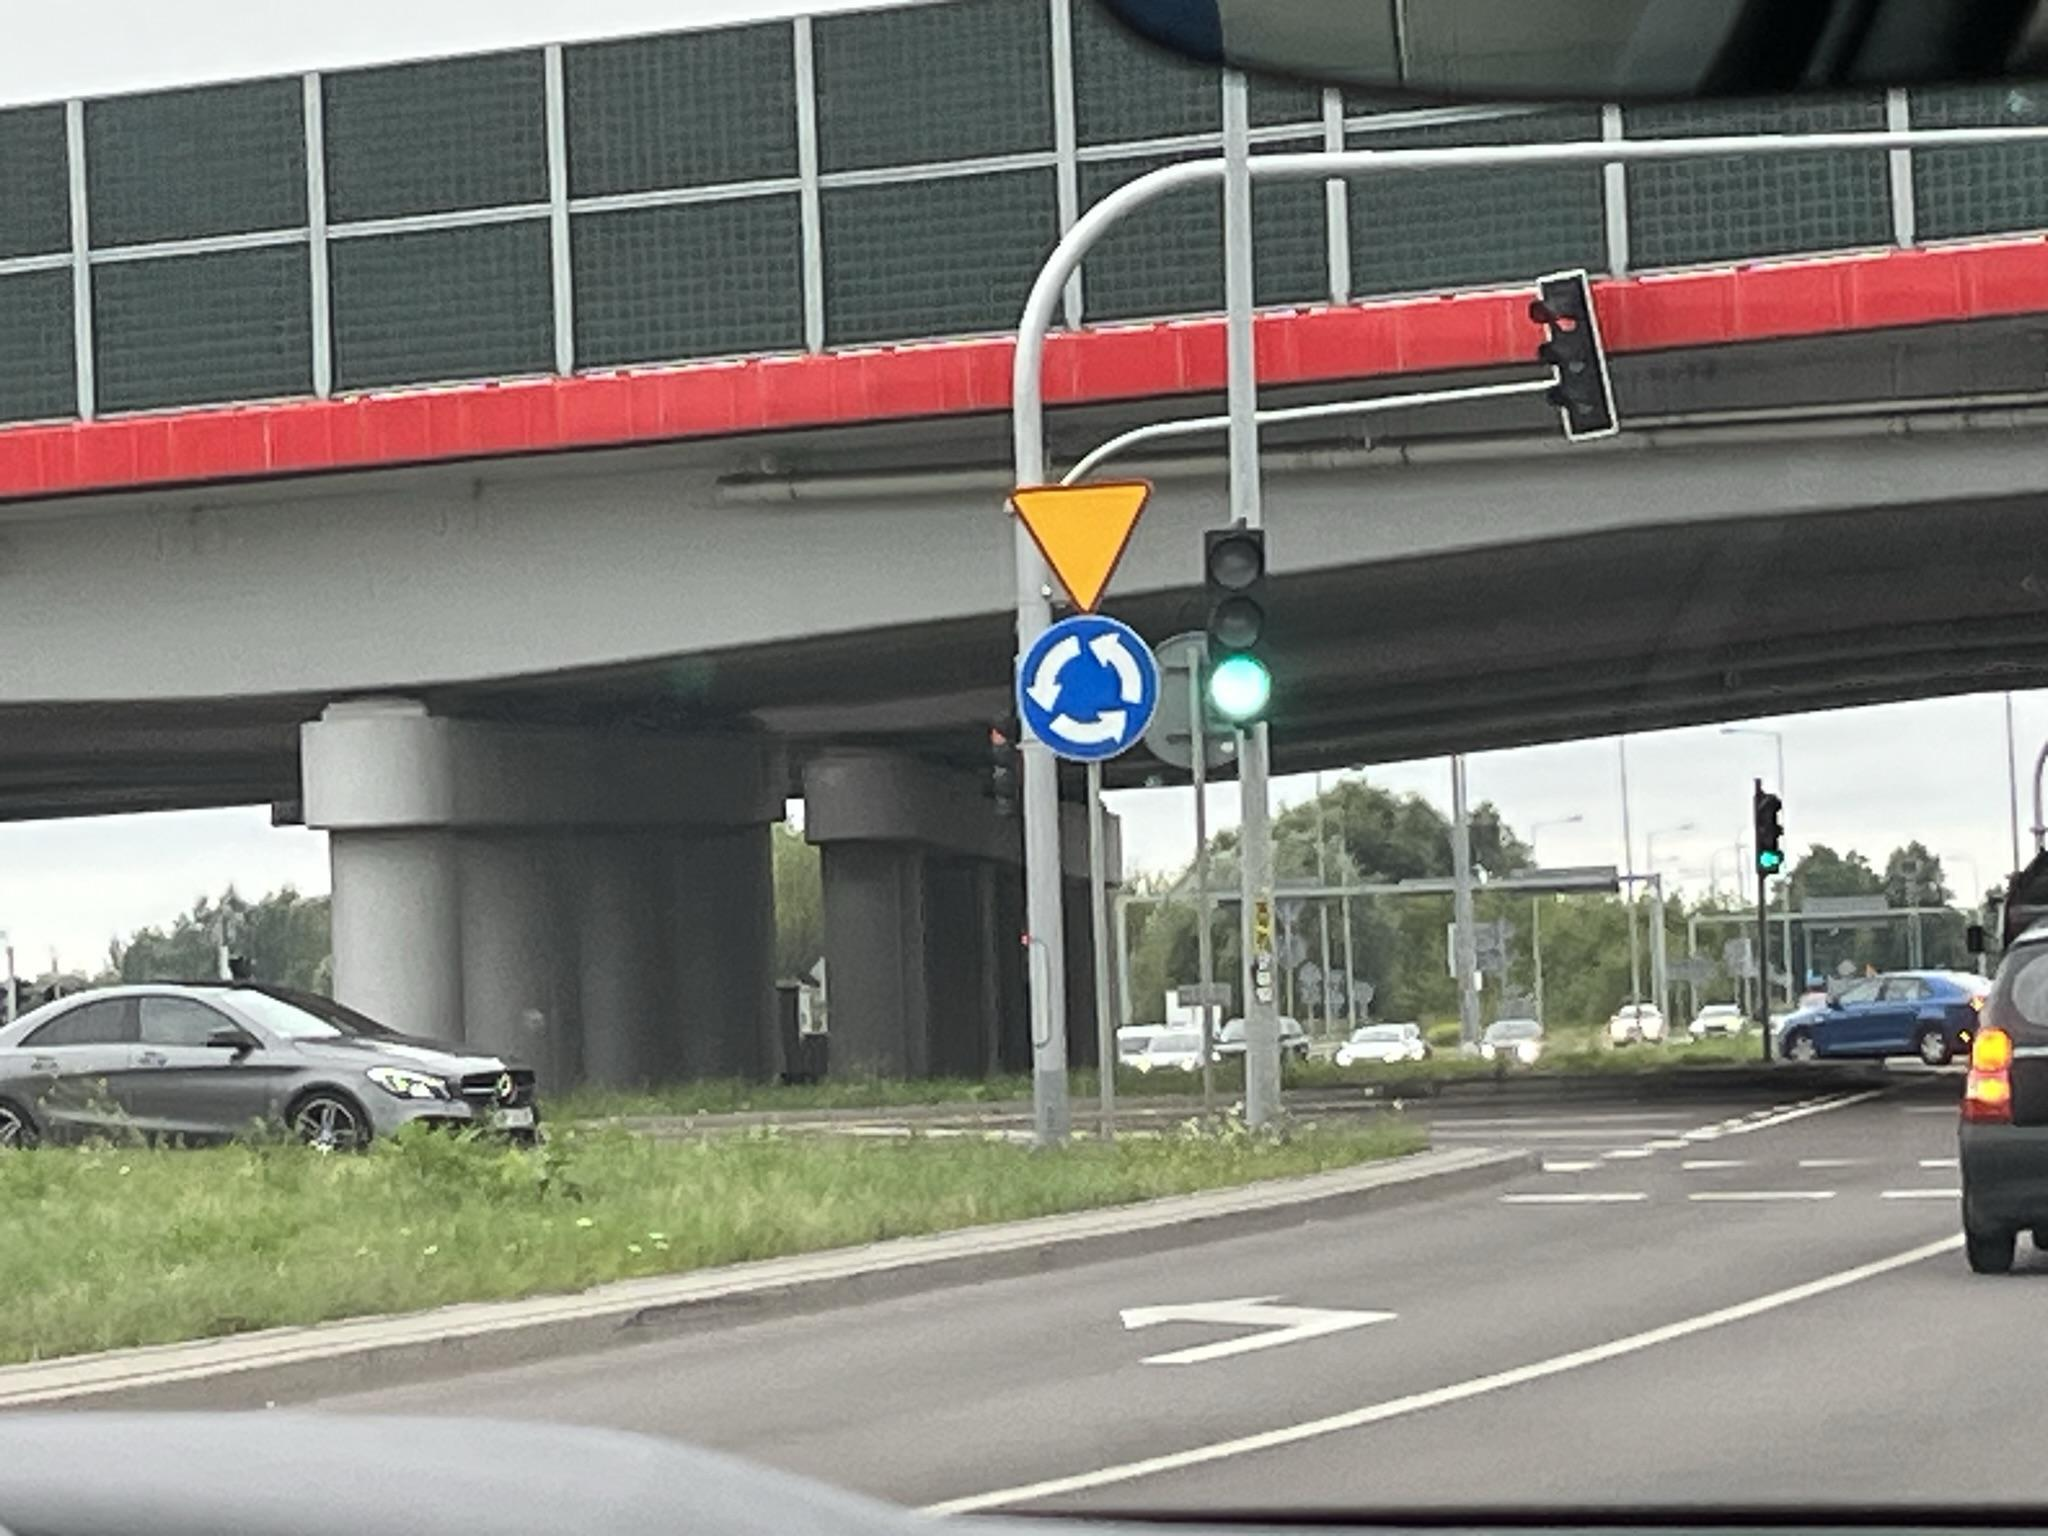mandatory: (1018, 615, 1163, 765)
warning: (1009, 478, 1158, 615)
